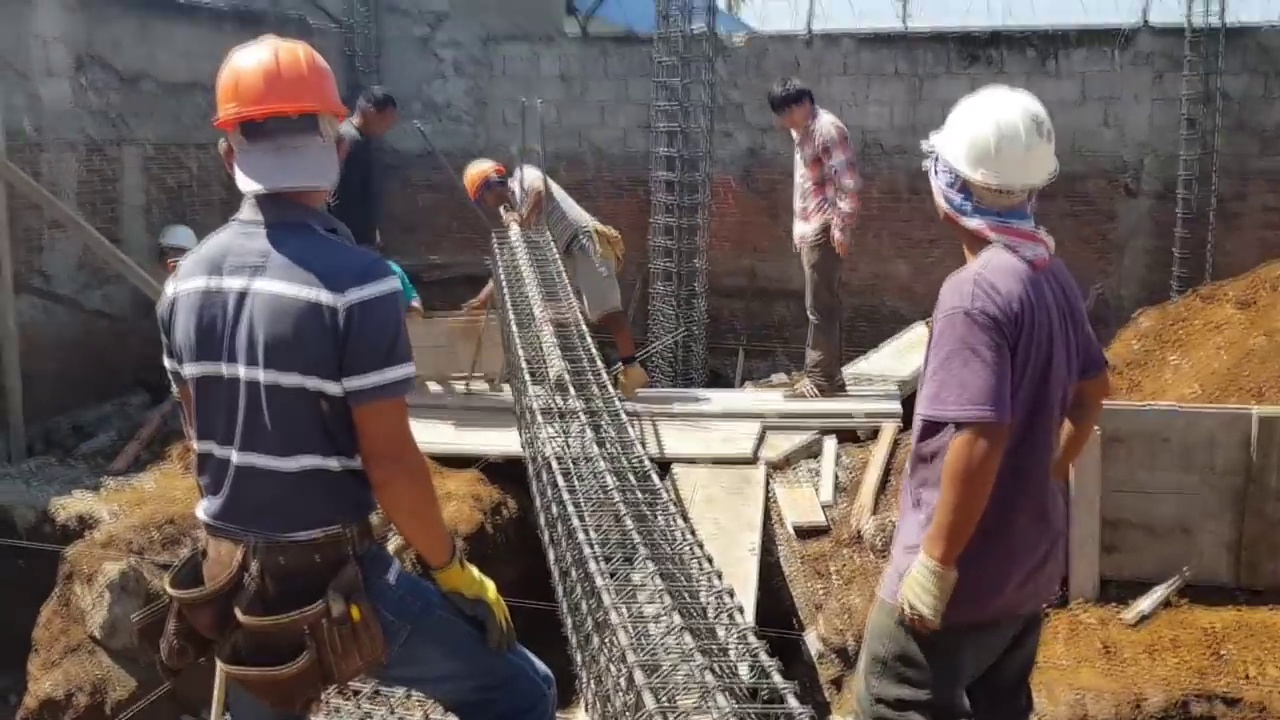helmet: (203, 36, 347, 143), (935, 83, 1061, 201), (464, 157, 504, 203), (159, 222, 200, 253)
helmet-off: (769, 73, 824, 133), (349, 78, 398, 136)
helmet-on: (203, 24, 353, 232), (924, 80, 1064, 271), (464, 155, 520, 210), (158, 222, 199, 273)
person: (160, 26, 524, 713), (854, 81, 1103, 720), (463, 155, 651, 399), (328, 69, 497, 320), (767, 76, 868, 406)
